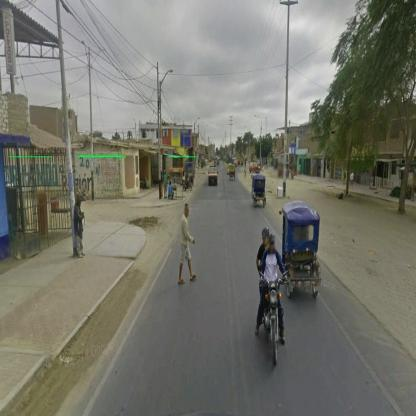Moto: (256, 228, 290, 367), (184, 173, 194, 194)
Peaton: (179, 202, 198, 284), (74, 196, 86, 257), (163, 171, 169, 200), (245, 167, 247, 179)
Pista: (90, 181, 397, 416)
Vehiculo: (283, 203, 322, 300), (252, 174, 266, 210), (209, 167, 218, 186), (230, 165, 237, 183)
